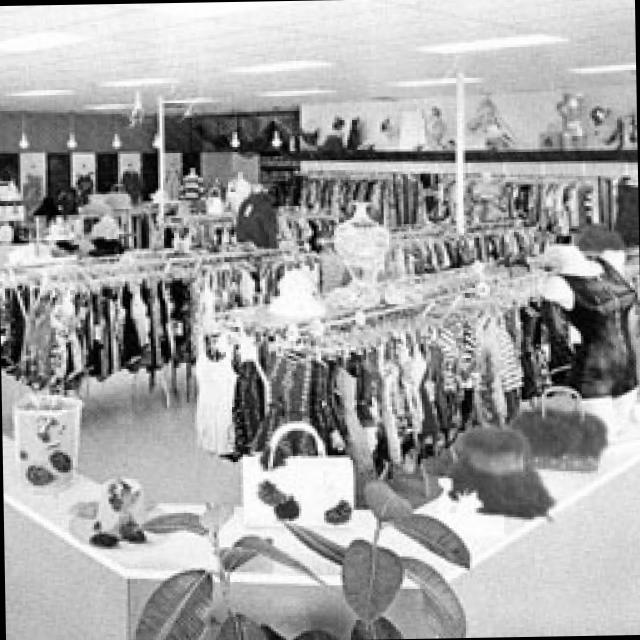clothing: (188, 257, 566, 469), (1, 239, 289, 390), (498, 177, 628, 242), (288, 173, 416, 222)
floor -X: (1, 250, 640, 638)
lamp crop: (415, 29, 565, 53), (0, 27, 85, 50), (226, 55, 328, 71), (386, 70, 476, 86), (566, 60, 628, 73), (258, 85, 328, 93), (101, 75, 163, 84)
purse occluded: (235, 420, 351, 522), (507, 386, 602, 466)
stand clothes: (2, 382, 640, 640)
wall clock: (184, 85, 634, 270), (0, 108, 189, 253)
